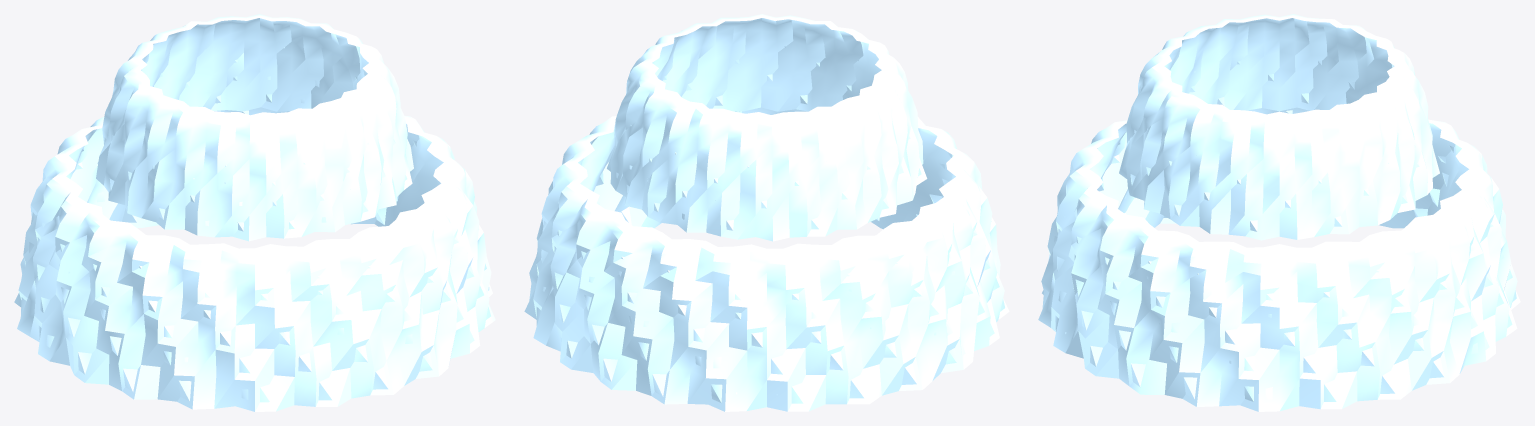
The model's file is citadel_fx_sheets.glb.
3 renders of one model, left to right at view 1: azimuth 30°, elevation 25°; view 2: azimuth 150°, elevation 25°; view 3: azimuth 270°, elevation 25°, orthographic.
Parts seen in each view (by area): view 1: fx_sheets_water; view 2: fx_sheets_water; view 3: fx_sheets_water.
Part boxes in pixels (x1,y1,x2,y2): fx_sheets_water: [14, 14, 495, 411]; fx_sheets_water: [524, 14, 1009, 411]; fx_sheets_water: [1038, 14, 1520, 411].
Size of the model in its own units: 4.25 by 2.4 by 4.29.
